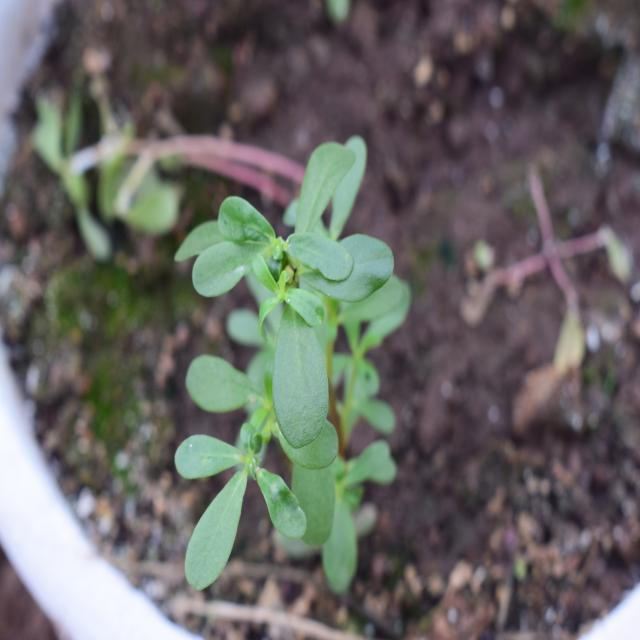purslane: (181, 123, 419, 602)
